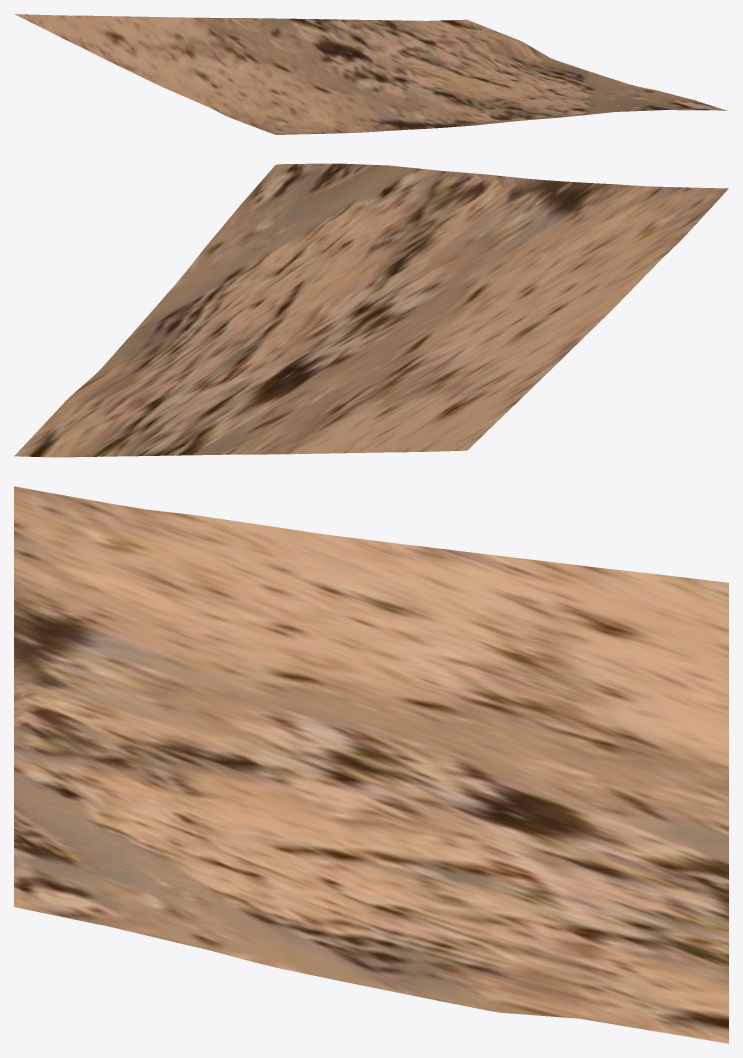
3 views of the same model, one above another, from view 1: azimuth 30°, elevation 25°; view 2: azimuth 150°, elevation 25°; view 3: azimuth 270°, elevation 25° (orthographic). The views are drawn at different scales.
Bounding box in the file's own units: 2.09 × 0.8233 × 2.09.
2 materials, 2 textured.
